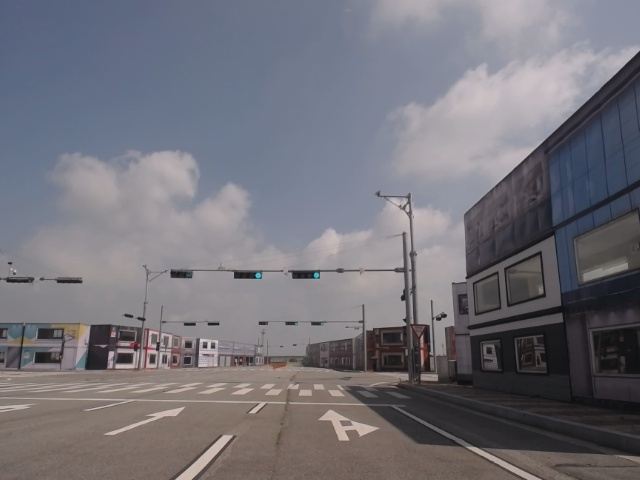straight_green_4: (233, 271, 261, 279), (292, 272, 321, 279)
